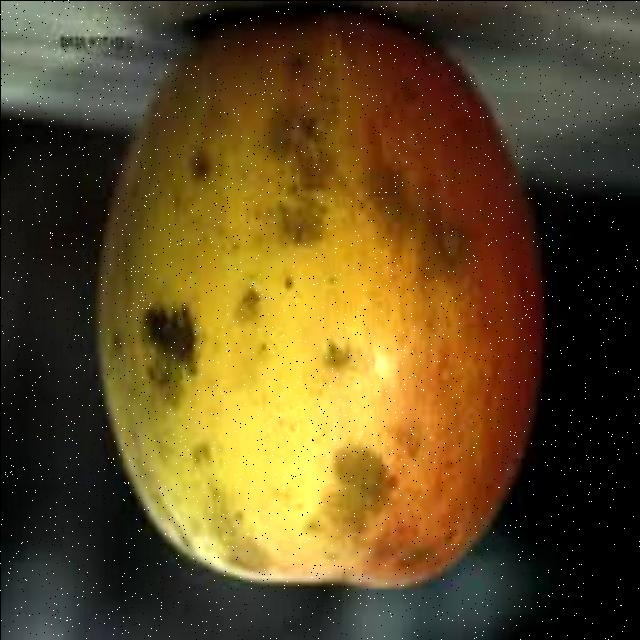BLOTCH: (71, 20, 566, 583)
